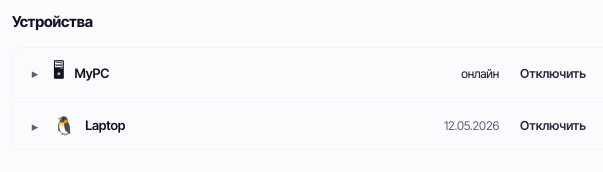
Test: DevicesTab › shows toast when rename returns 409 conflict
Click the text "MyPC".
click(92, 72)  # box [75,64,109,80]
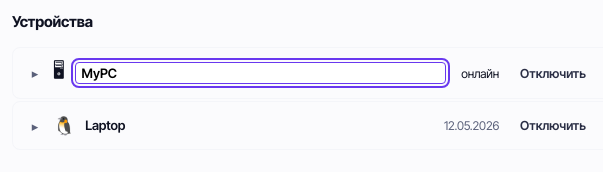
Replace the text in the field with "OtherPC" at coordinates (260, 73), box [75,62,446,84]
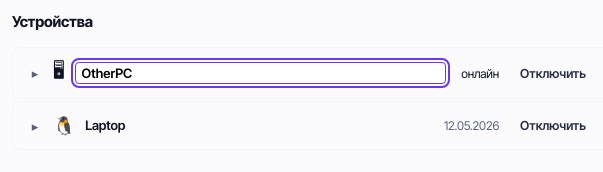
Press Enter in the field, box [75,62,446,84]
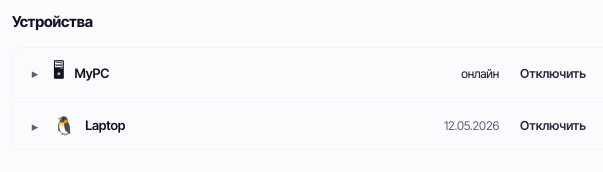
Now the field is gone
